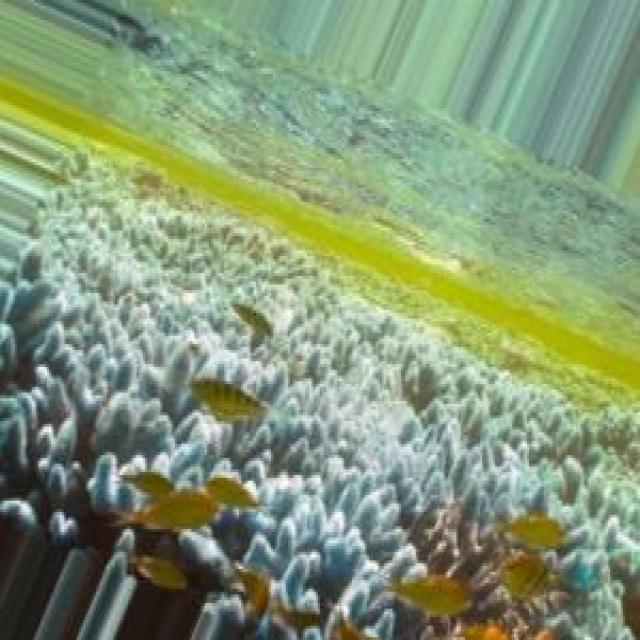Bleached: (1, 75, 640, 640)
